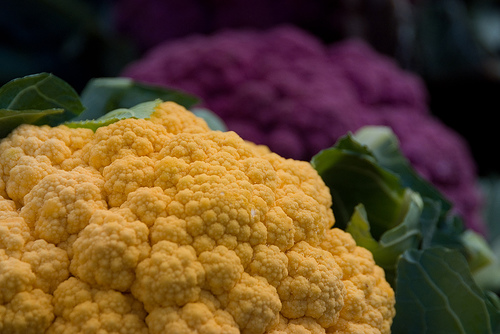cauliflower: (7, 94, 412, 333)
